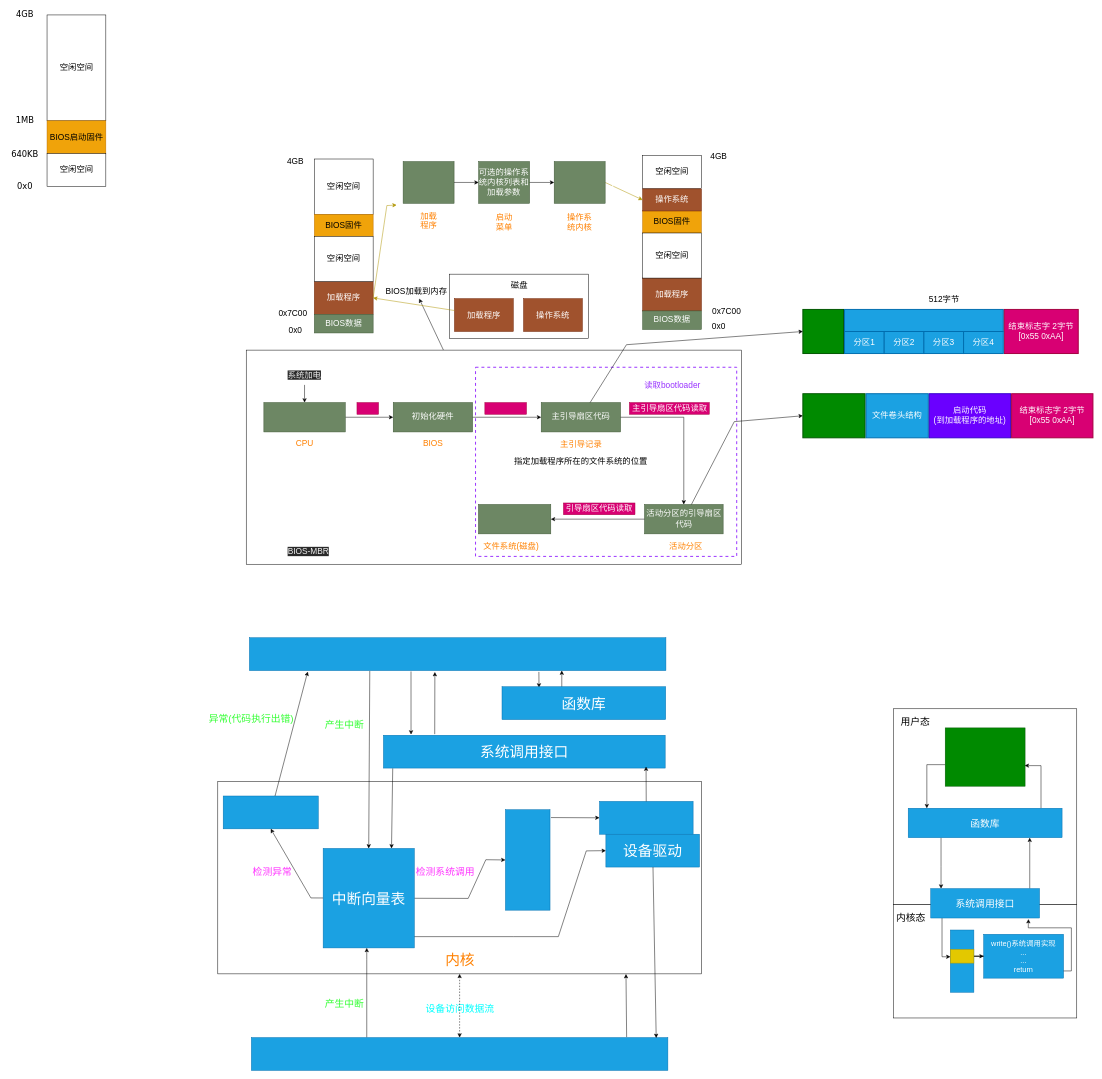
Some shapes in this 1102 by 1079 pixel diagram are drawn without their labels. The box of each missing label's shape, as (x1, y1, x2, y2) in pixels:
#include <stdio.h> int main(){ ... ... printf("sample"); return 0; }: (945, 727, 1025, 786)
BIOS读取: (484, 402, 527, 414)
entry: (950, 949, 974, 963)
JMP指令 (到启动代码): (802, 393, 865, 438)
从文件系统中读取启动配置信息: (403, 161, 454, 203)
依据配置加载指定内核并跳转到内核执行: (554, 161, 605, 203)
初始化：跳转指令: (263, 402, 345, 432)
加载程序代码: (478, 504, 551, 534)
启动代码 446字节: (802, 309, 844, 354)
外部设备: (251, 1037, 668, 1070)
应用程序: (249, 637, 666, 671)
异常服务例程: (223, 796, 318, 829)
硬盘分区表 64字节: (844, 309, 1004, 332)
系统调用实现: (599, 801, 693, 834)
系统调用表: (505, 809, 550, 910)
跳转: (356, 402, 379, 414)
